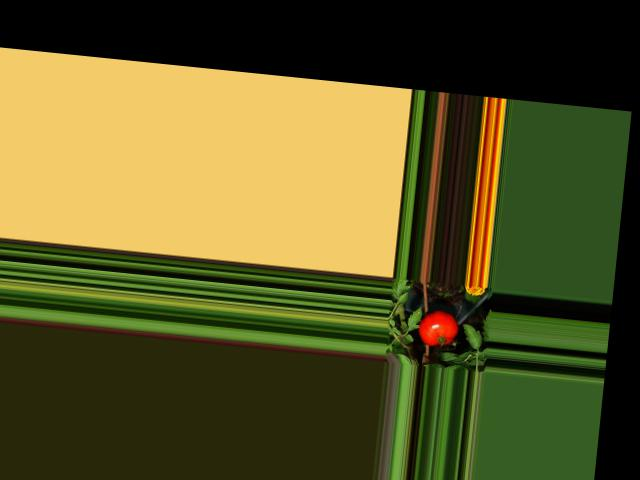tomato: (415, 308, 460, 348)
